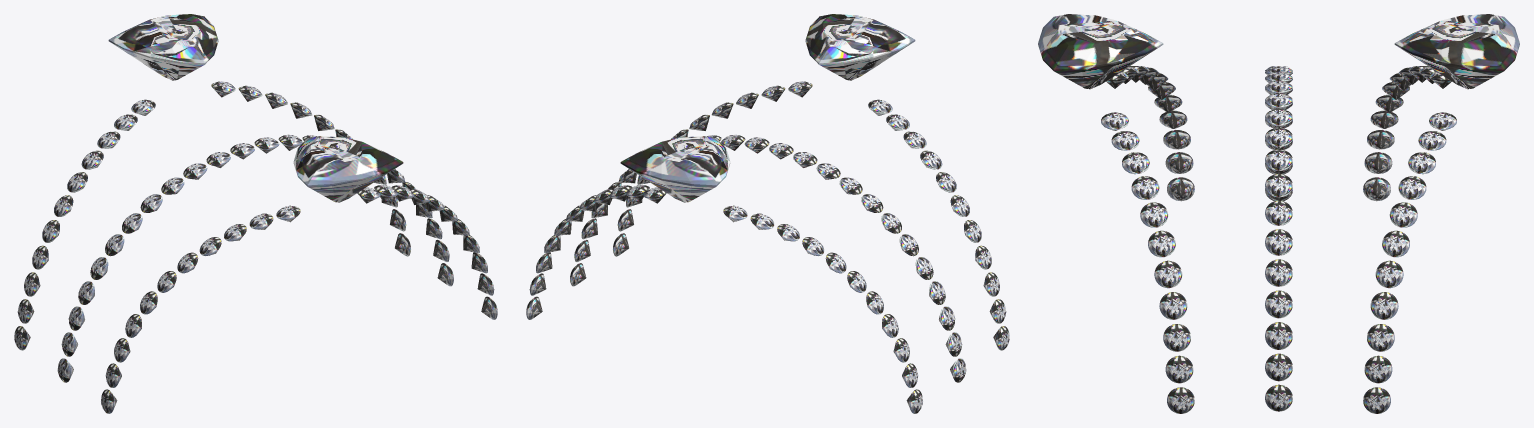
3 views of the same model, side by side, from view 1: azimuth 30°, elevation 25°; view 2: azimuth 150°, elevation 25°; view 3: azimuth 270°, elevation 25° (orthographic). The views are drawn at different scales.
Parts seen in each view (by area): view 1: Object_3, Object_1; view 2: Object_1, Object_3; view 3: Object_1, Object_3, Object_11, Object_22, Object_68, Object_69, Object_12, Object_23, Object_10, Object_21, Object_70, Object_13 (+26 smaller).
Part boxes in pixels (left/top/right/bottom): Object_3: left=108, top=14, right=218, bottom=80; Object_1: left=293, top=136, right=403, bottom=202; Object_1: left=805, top=14, right=915, bottom=80; Object_3: left=620, top=136, right=730, bottom=202; Object_1: left=1038, top=14, right=1163, bottom=89; Object_3: left=1394, top=14, right=1519, bottom=89; Object_11: left=1159, top=292, right=1187, bottom=319; Object_22: left=1370, top=292, right=1398, bottom=319; Object_68: left=1265, top=290, right=1292, bottom=318; Object_69: left=1265, top=322, right=1292, bottom=349; Object_12: left=1163, top=324, right=1190, bottom=351; Object_23: left=1367, top=324, right=1394, bottom=351; Object_10: left=1154, top=260, right=1182, bottom=288; Object_21: left=1375, top=260, right=1403, bottom=288; Object_70: left=1265, top=353, right=1292, bottom=381; Object_13: left=1165, top=355, right=1193, bottom=383.
Size of the model in its own units: 21.96 by 20.71 by 13.2.
Materials: 1 (1 with a texture image).
